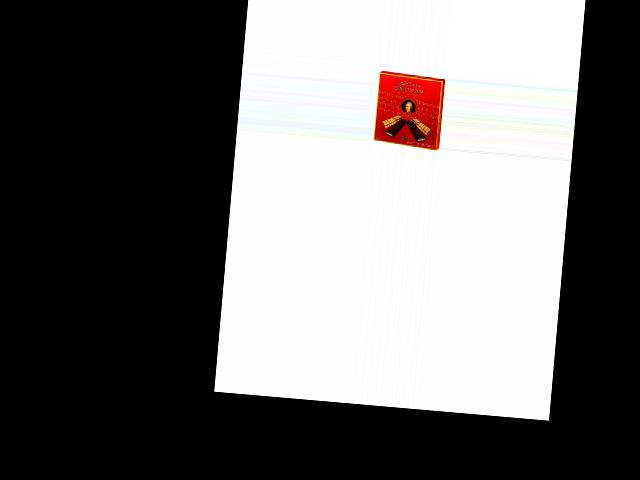chocolate: (371, 71, 445, 152)
